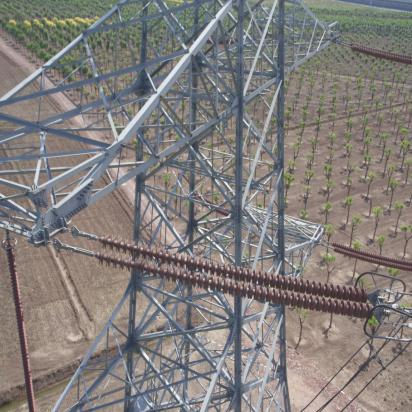insulator: (88, 233, 380, 321), (327, 239, 412, 272), (350, 41, 412, 65)
